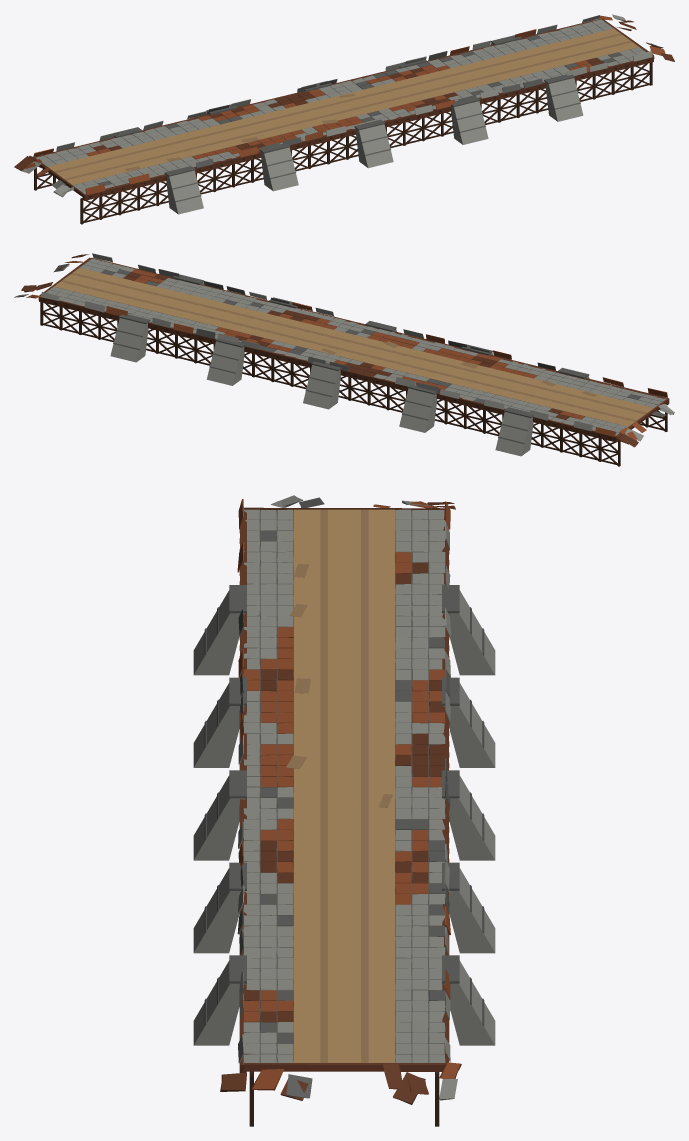
The model's file is wing_deck.glb.
3 renders of one model, top to bottom at view 1: azimuth 30°, elevation 25°; view 2: azimuth 150°, elevation 25°; view 3: azimuth 270°, elevation 25°, orthographic. The views are drawn at different scales.
Visible parts, largest first — view 1: wing_deck; view 2: wing_deck; view 3: wing_deck.
Part boxes in pixels (x1,y1,x2,y2): wing_deck: [14, 14, 674, 224]; wing_deck: [14, 253, 674, 466]; wing_deck: [193, 495, 495, 1126].
Size of the model in its own units: 168 by 9.73 by 35.8.
